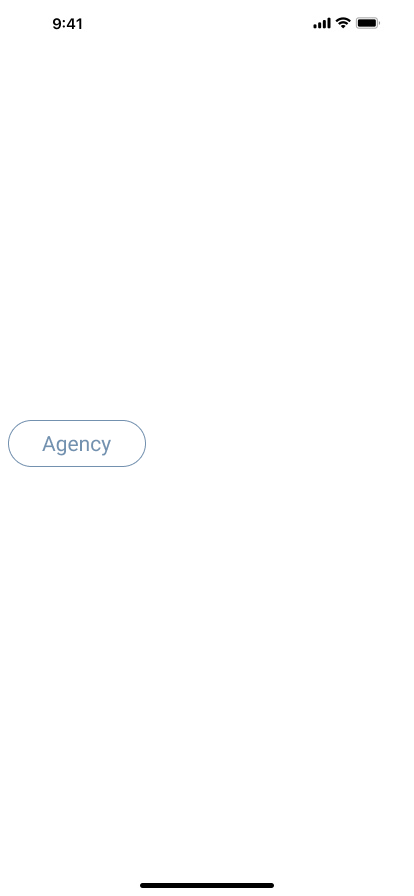Buttons: (8, 420, 154, 467)
Home Indicator: (0, 862, 414, 896)
Status Bar: (0, 0, 414, 44)
